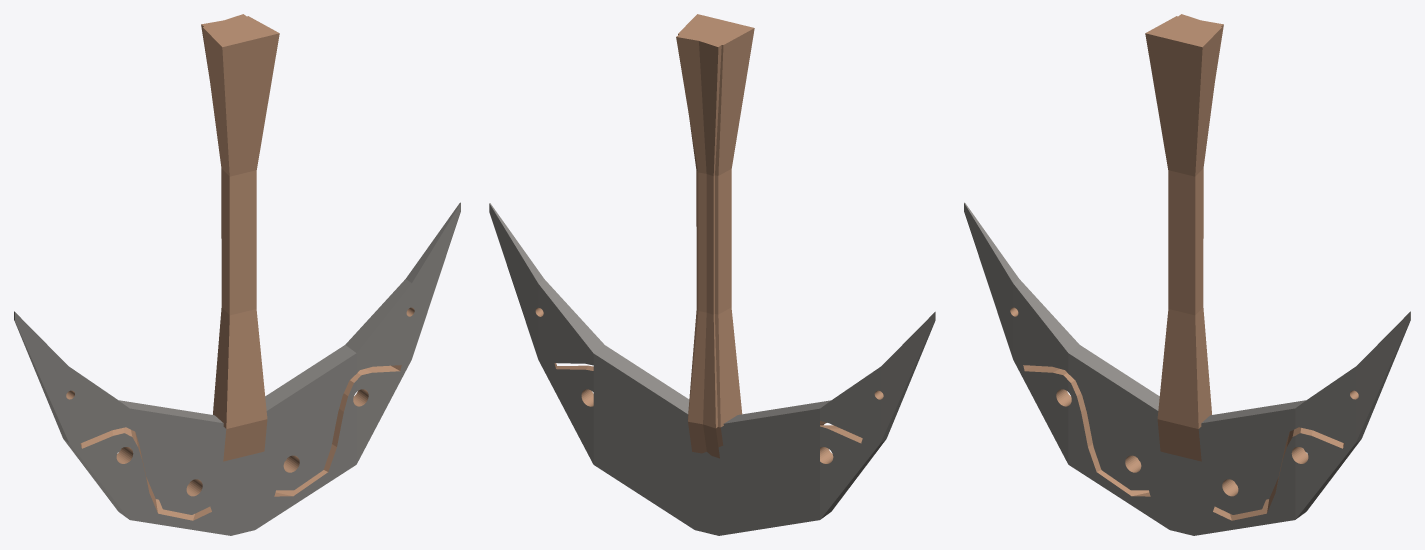
Rendered from swingTrap.fbx.
3 views of the same model, side by side, from view 1: azimuth 30°, elevation 25°; view 2: azimuth 150°, elevation 25°; view 3: azimuth 330°, elevation 25° (orthographic).
Visible parts, largest first — view 1: Cube; view 2: Cube; view 3: Cube.
Boxes of the visible parts, x1,y1,x2,y2 form: Cube: (14, 14, 460, 535); Cube: (489, 14, 935, 535); Cube: (964, 14, 1410, 535).
Bounding box in the file's own units: 529 × 565 × 59.22.
